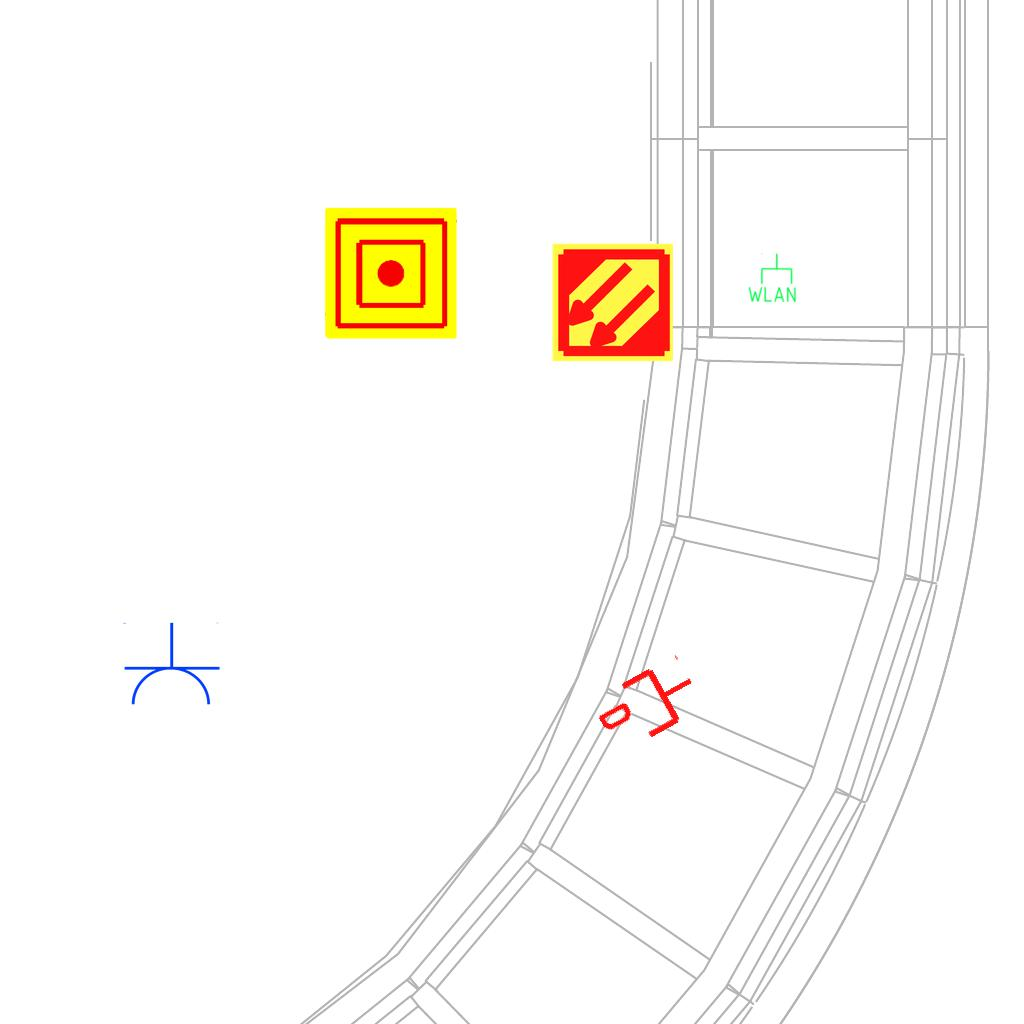ASR_Ansaugrauchmelder: (550, 240, 675, 365)
Datenanschluss_einfach: (588, 649, 709, 759)
NAM-Nichtautomatischer_Melder: (325, 207, 457, 339)
Schukosteckdose_einfach: (121, 622, 221, 709)
WLAN: (746, 252, 798, 304)
